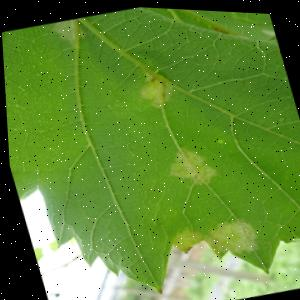Folha: (0, 0, 300, 300)
Fungo: (157, 206, 262, 270), (161, 140, 218, 190), (133, 70, 177, 109)
